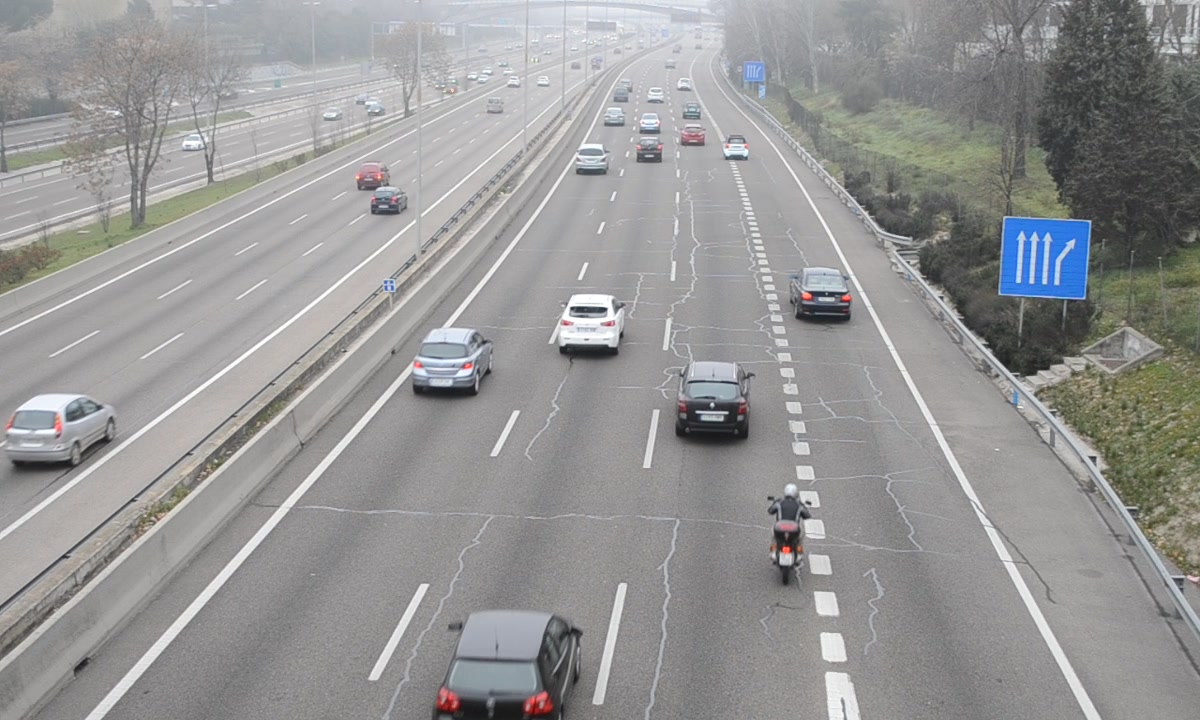car: (432, 610, 581, 718), (675, 360, 748, 437), (412, 327, 494, 393), (558, 294, 625, 351), (792, 266, 854, 317), (573, 141, 611, 175), (635, 135, 662, 163), (722, 133, 749, 160), (680, 121, 708, 146)
motorcycle: (765, 484, 814, 583)
